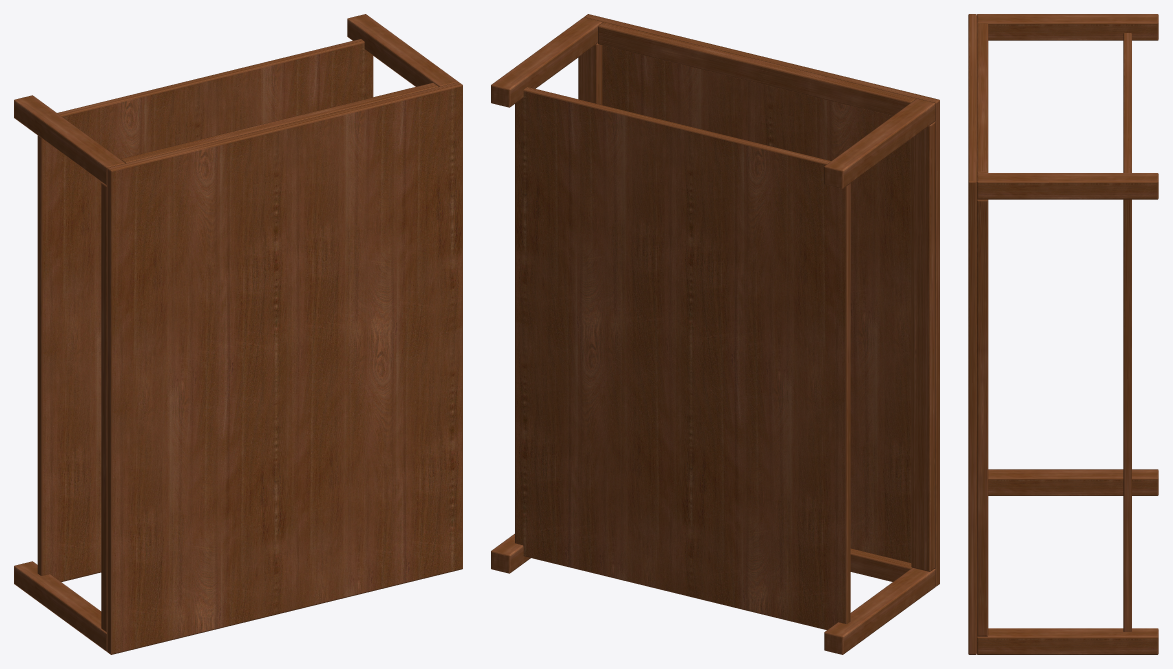
Rendered from ClassicWoodCoffeeTable02.fbx.dae.
3 views of the same model, side by side, from view 1: azimuth 30°, elevation 25°; view 2: azimuth 150°, elevation 25°; view 3: azimuth 270°, elevation 25° (orthographic). The views are drawn at different scales.
Parts seen in each view (by area): view 1: Rectangle35, Rectangle39, Rectangle294, Rectangle40, Rectangle107, Rectangle33, Rectangle34; view 2: Rectangle39, Rectangle35, Rectangle33, Rectangle34, Rectangle294, Rectangle107, Rectangle40, Rectangle292, Rectangle293, Rectangle36; view 3: Rectangle35, Rectangle292, Rectangle39, Rectangle40, Rectangle36, Rectangle294, Rectangle107, Rectangle34.
Boxes of the visible parts, x1,y1,x2,y2 form: Rectangle35: [107, 82, 462, 654]; Rectangle39: [37, 39, 373, 581]; Rectangle294: [14, 95, 124, 185]; Rectangle40: [347, 14, 458, 86]; Rectangle107: [14, 561, 106, 651]; Rectangle33: [101, 182, 106, 632]; Rectangle34: [120, 82, 438, 163]; Rectangle39: [515, 87, 850, 629]; Rectangle35: [584, 14, 939, 586]; Rectangle33: [911, 122, 935, 571]; Rectangle34: [598, 22, 916, 115]; Rectangle294: [824, 98, 935, 188]; Rectangle107: [824, 568, 935, 654]; Rectangle40: [491, 17, 602, 107]; Rectangle292: [578, 43, 602, 104]; Rectangle293: [850, 548, 911, 581]; Rectangle36: [491, 534, 530, 573]; Rectangle35: [968, 14, 976, 654]; Rectangle292: [977, 199, 988, 636]; Rectangle39: [1123, 33, 1131, 631]; Rectangle40: [977, 173, 1158, 199]; Rectangle36: [977, 628, 1158, 654]; Rectangle294: [977, 14, 1158, 40]; Rectangle107: [988, 469, 1158, 495]; Rectangle34: [977, 23, 988, 172].
Bounding box in the file's own units: 35 × 46 × 16.75.
Materials: 1 (1 with a texture image).
